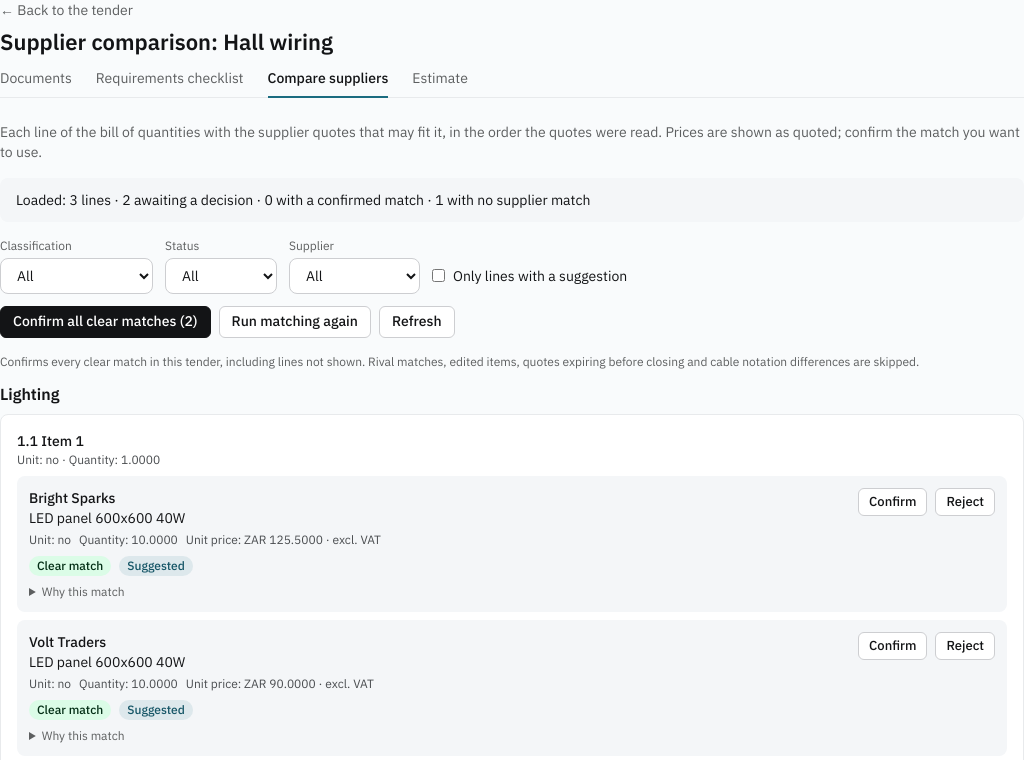
it: ComparisonView › confirms all clear matches, counting only clear suggested ones, and reports the server counts
Click the button "Confirm all clear matches (2)": {"x": 105, "y": 322} [0,306,210,338]
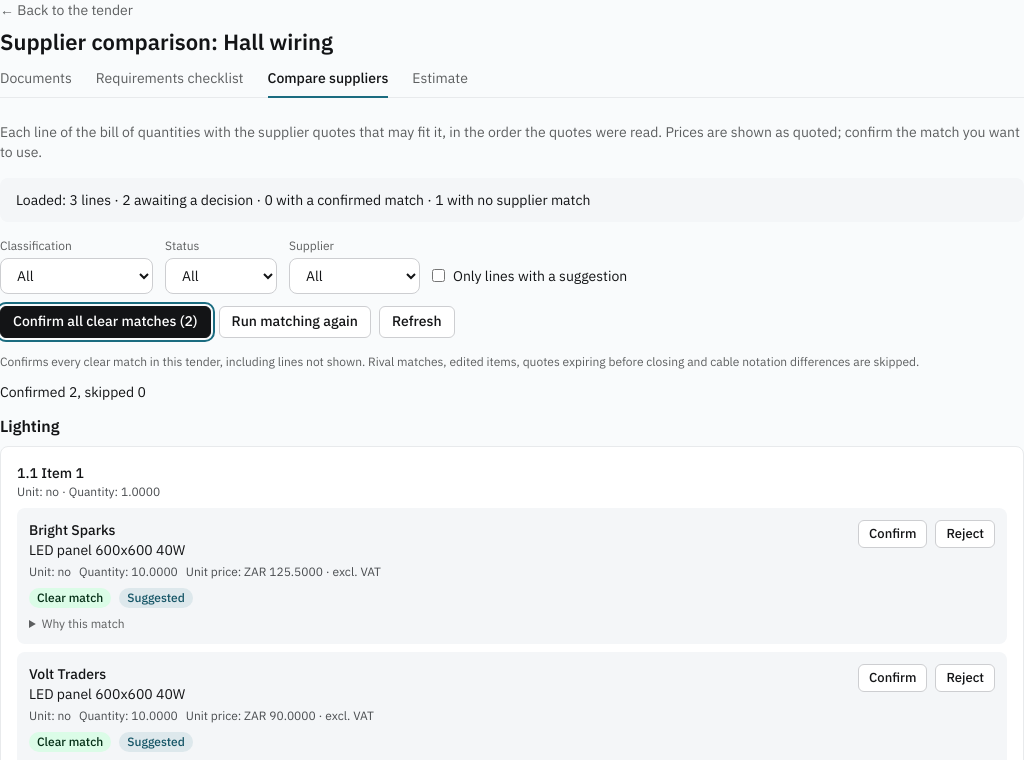
Now the text "Confirmed 2, skipped 0" is shown, box [0,382,146,400]
